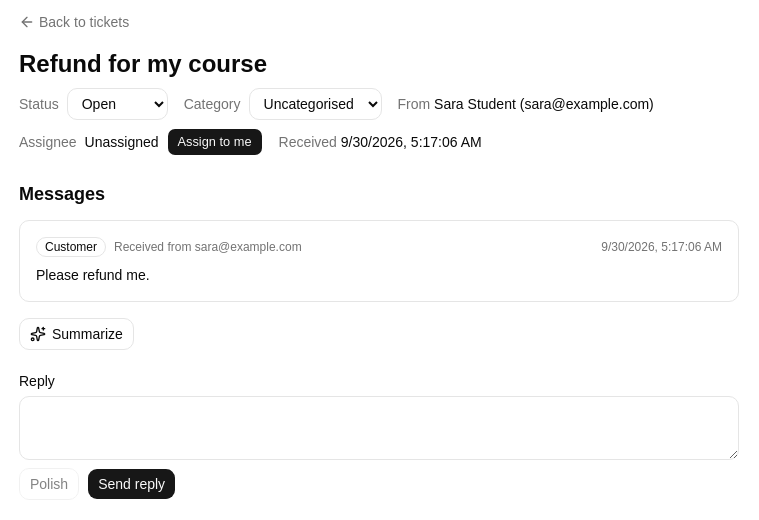
TicketDetailPage › replying › polishes the draft into the reply box without sending it
Type "looking into it" into the text box labelled "Reply" at (379, 428), box [19,396,739,460]
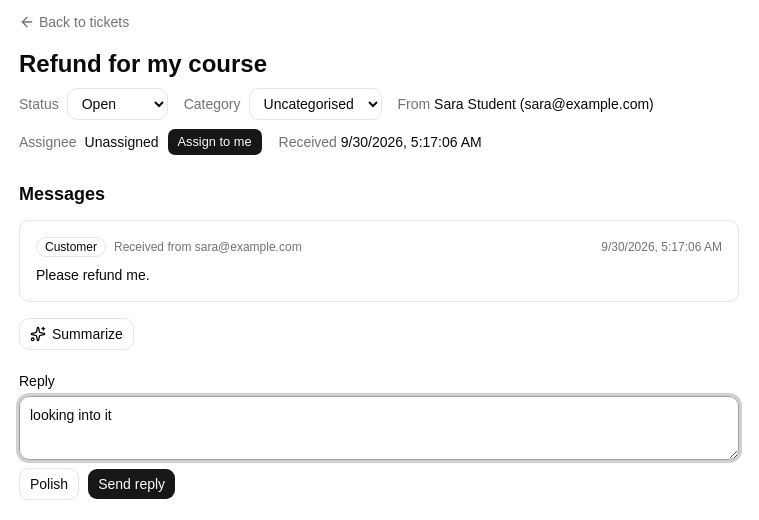
Click the button "Polish" at (49, 484), box [19,468,79,500]
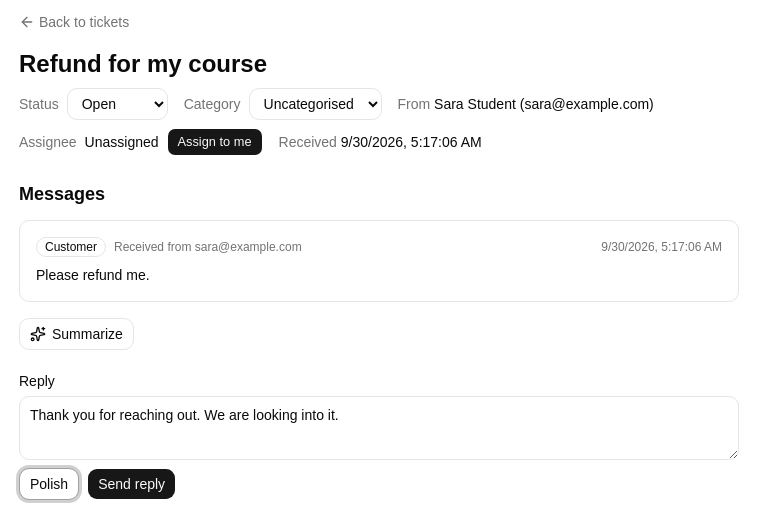
Expected: the text box labelled "Reply" holds "Thank you for reaching out. We are looking into it.", [19,396,739,460]
